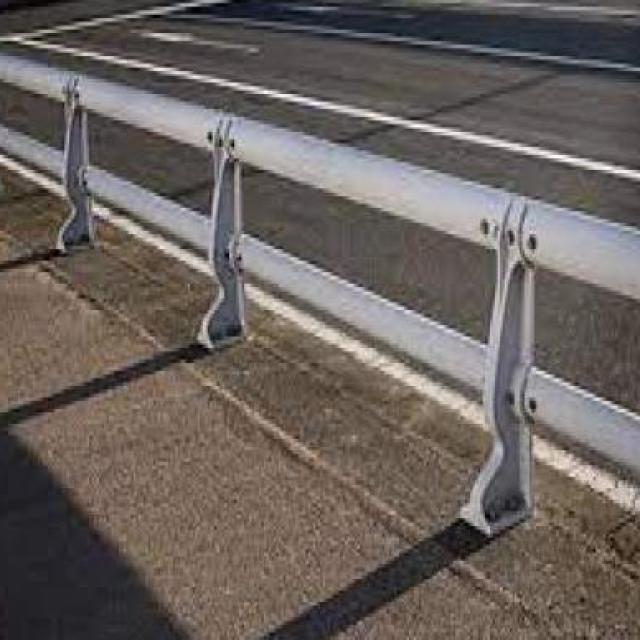Guard rail: (0, 32, 640, 560)
